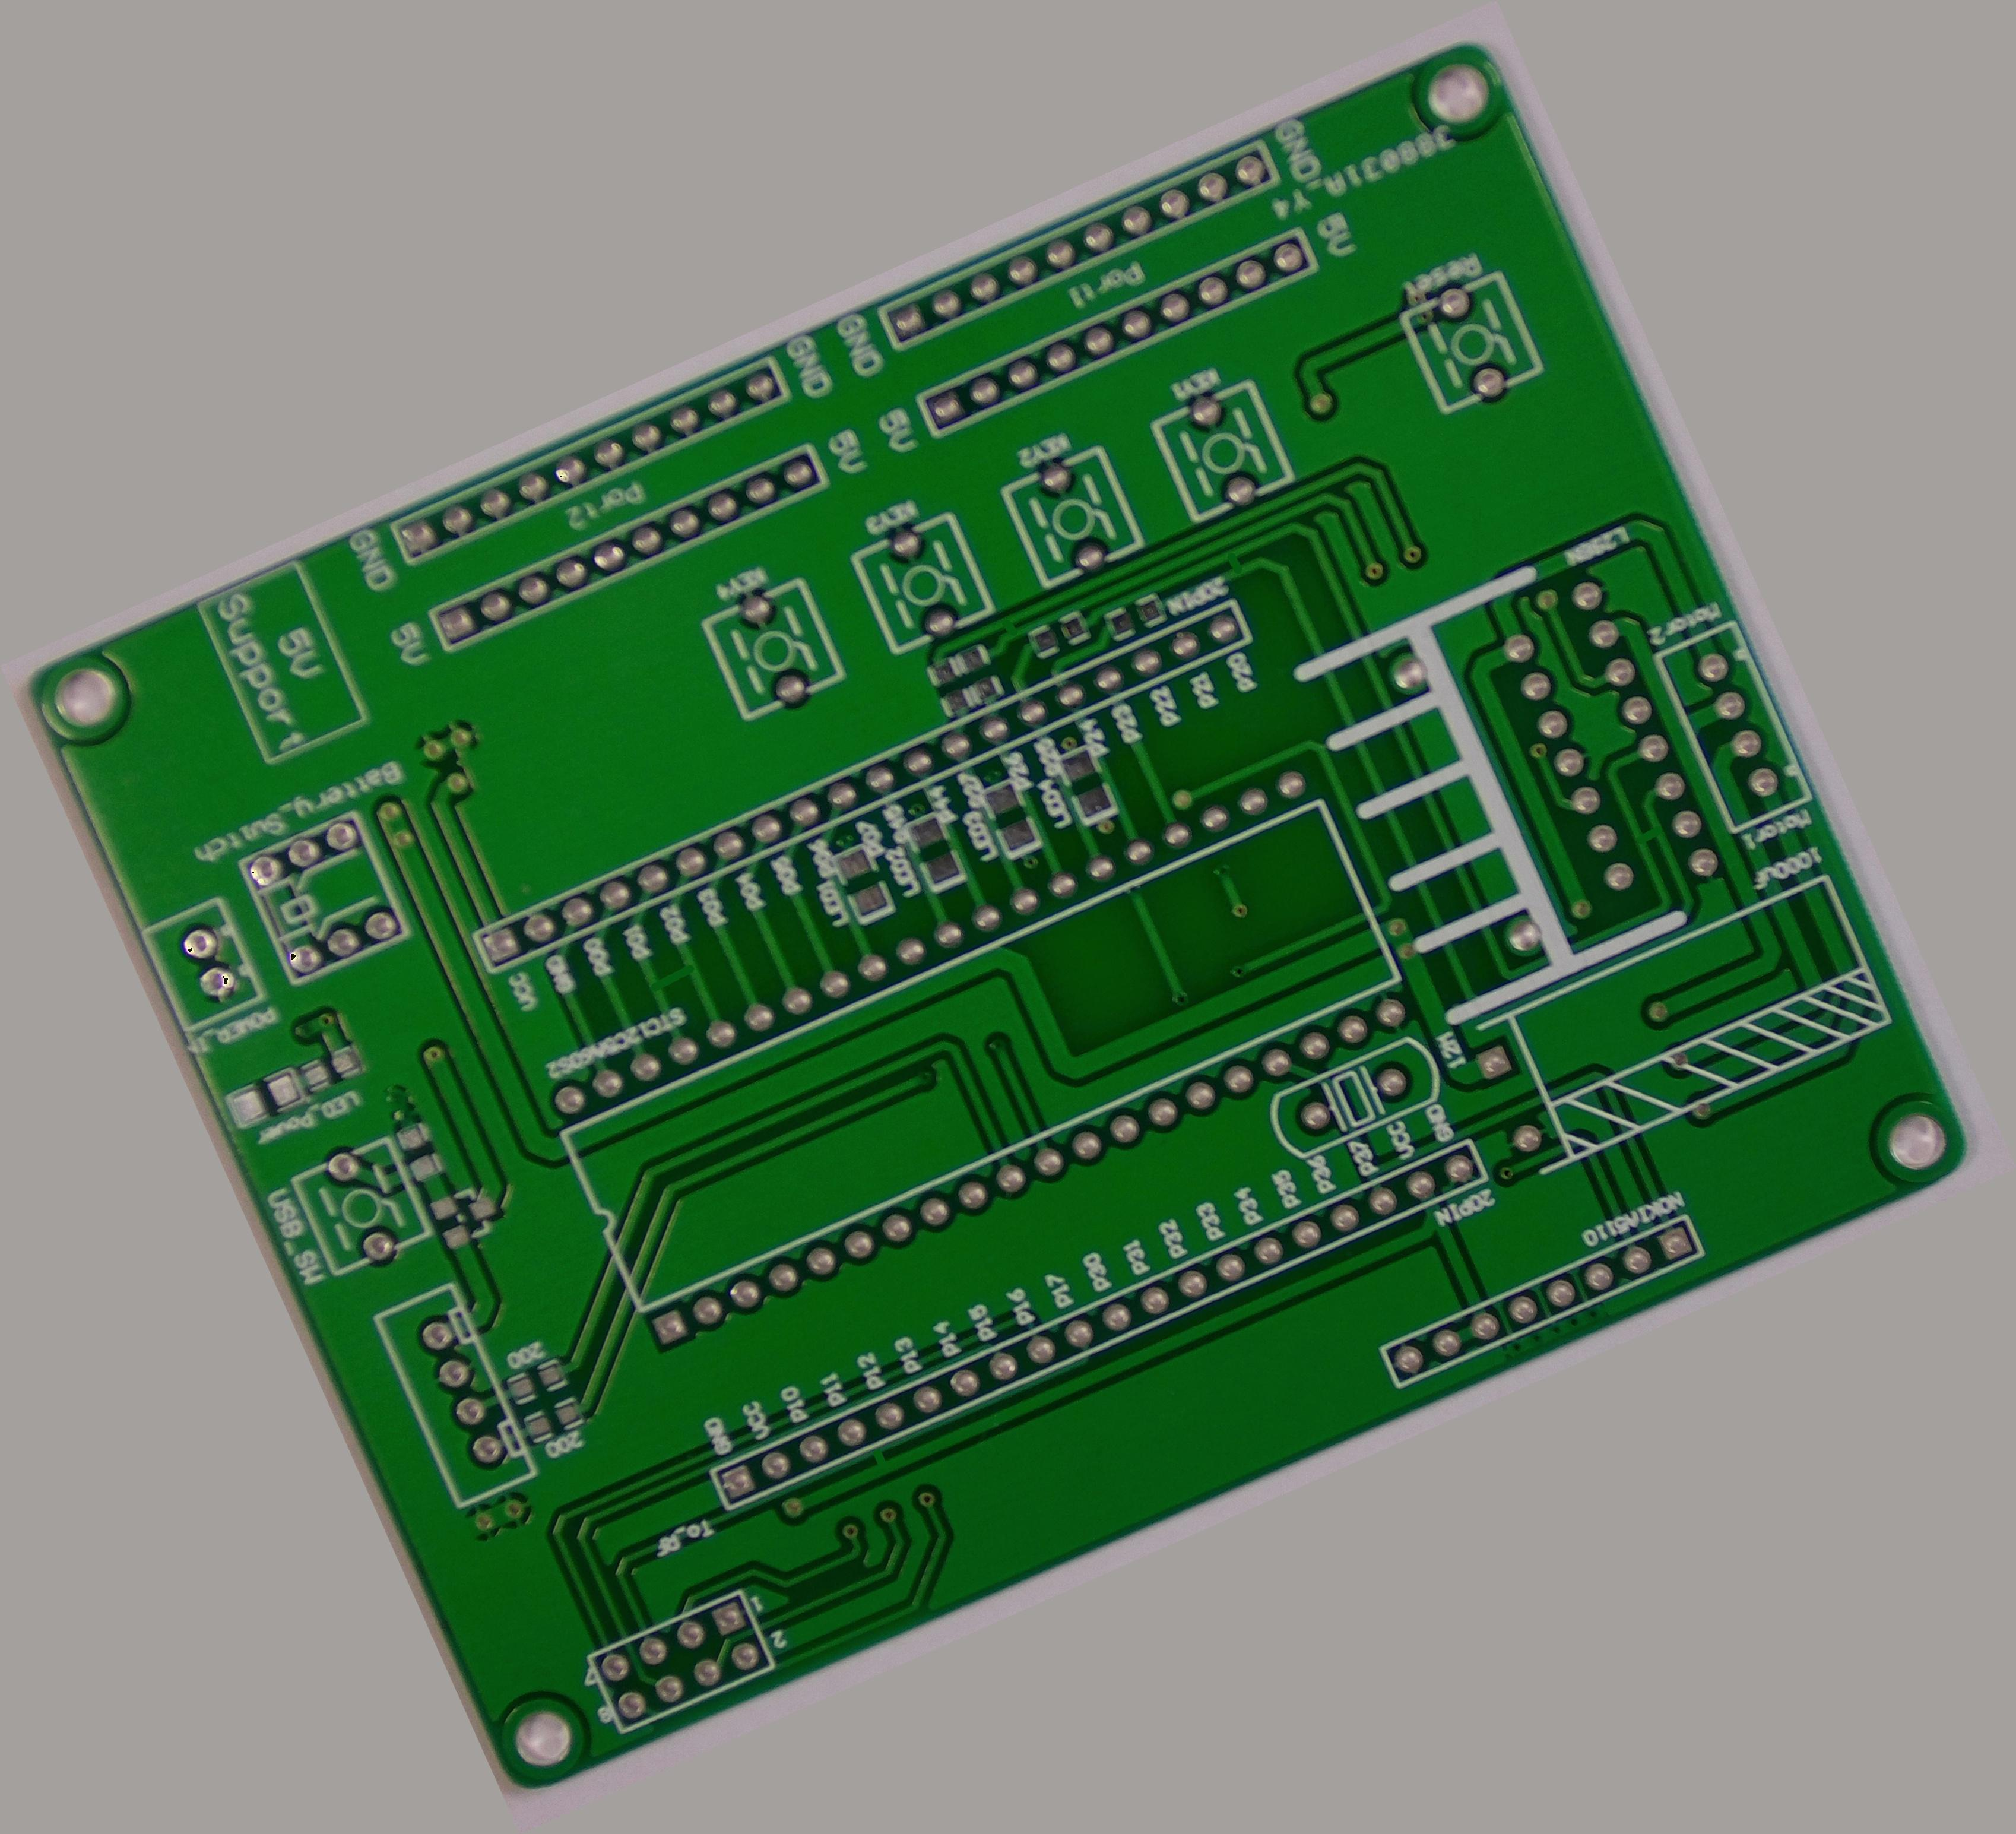short: (639, 949, 711, 1007), (855, 1430, 910, 1486), (1205, 541, 1261, 594), (1621, 808, 1675, 859), (983, 604, 1034, 653)
